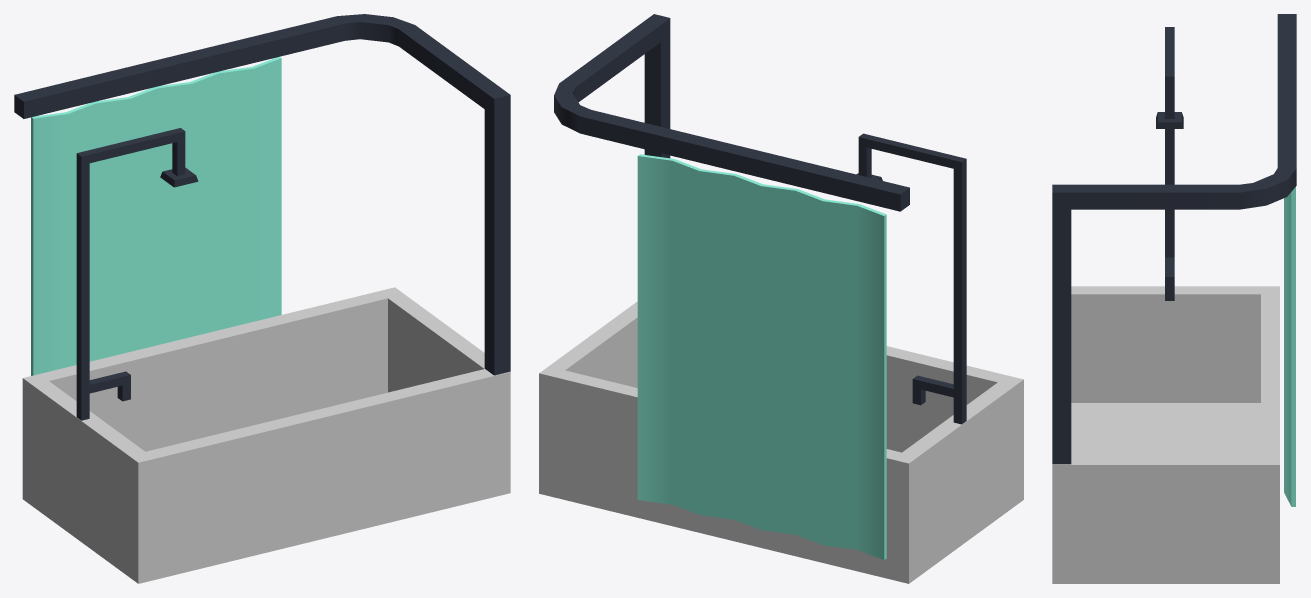
The model's file is Shower.fbx.
3 renders of one model, left to right at view 1: azimuth 30°, elevation 25°; view 2: azimuth 150°, elevation 25°; view 3: azimuth 270°, elevation 25°, orthographic.
Visible parts, largest first — view 1: stopper_low1.005, stopper_low1.001, stopper_low1.003, stopper_low1.002, stopper_low1; view 2: stopper_low1.001, stopper_low1.005, stopper_low1.003, stopper_low1.002, stopper_low1; view 3: stopper_low1.005, stopper_low1.003, stopper_low1.001, stopper_low1.002, stopper_low1.
Part boxes in pixels (left/top/right/bottom): stopper_low1.005: left=22, top=287, right=510, bottom=583; stopper_low1.001: left=31, top=57, right=281, bottom=375; stopper_low1.003: left=14, top=14, right=510, bottom=375; stopper_low1.002: left=76, top=128, right=198, bottom=394; stopper_low1: left=76, top=371, right=130, bottom=420; stopper_low1.001: left=637, top=154, right=886, bottom=559; stopper_low1.005: left=539, top=301, right=1023, bottom=583; stopper_low1.003: left=554, top=14, right=909, bottom=211; stopper_low1.002: left=856, top=133, right=966, bottom=398; stopper_low1: left=912, top=375, right=966, bottom=424; stopper_low1.005: left=1052, top=286, right=1279, bottom=583; stopper_low1.003: left=1052, top=14, right=1296, bottom=464; stopper_low1.001: left=1284, top=187, right=1295, bottom=506; stopper_low1.002: left=1156, top=27, right=1183, bottom=257; stopper_low1: left=1165, top=257, right=1174, bottom=300.
Bounding box in the file's own units: 1125 × 1150 × 650.
